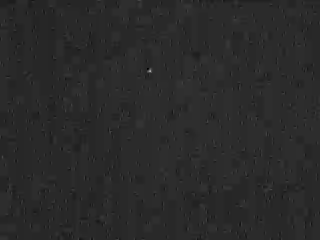Target: (148, 69, 152, 73)
